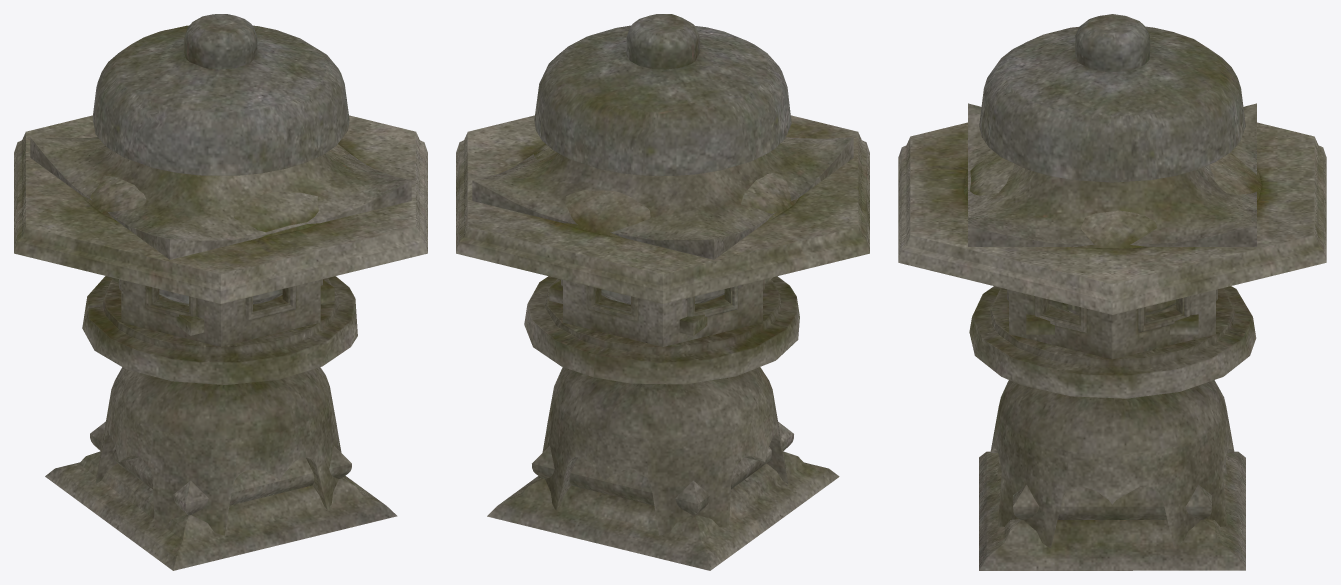
The model's file is den-da.glb.
3 views of the same model, side by side, from view 1: azimuth 30°, elevation 25°; view 2: azimuth 150°, elevation 25°; view 3: azimuth 270°, elevation 25° (orthographic). The views are drawn at different scales.
Visible parts, largest first — view 1: den3, den4, den5; view 2: den3, den4, den5; view 3: den3, den4, den5.
Part boxes in pixels (<box>): den3: <box>14,115,427,535</box>; den4: <box>30,137,411,570</box>; den5: <box>92,14,349,304</box>; den3: <box>456,115,869,535</box>; den4: <box>472,137,853,570</box>; den5: <box>534,14,791,304</box>; den3: <box>898,122,1326,547</box>; den4: <box>968,103,1256,570</box>; den5: <box>979,14,1245,315</box>.
Bounding box in the file's own units: 1.9 × 2.07 × 1.64.
Materials: 1 (1 with a texture image).
